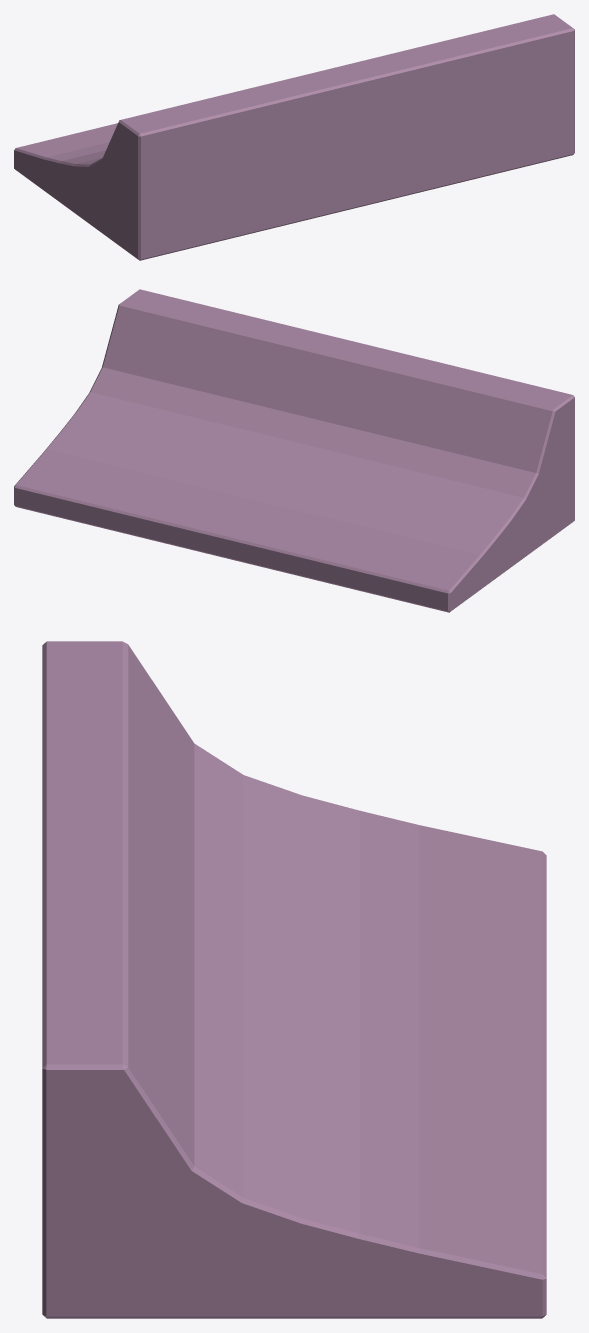
File: mesh_bigRampMod_v04.fbx
3 views of the same model, one above another, from view 1: azimuth 30°, elevation 25°; view 2: azimuth 150°, elevation 25°; view 3: azimuth 270°, elevation 25° (orthographic). The views are drawn at different scales.
Parts seen in each view (by area): view 1: mesh_bigRampMod_v03; view 2: mesh_bigRampMod_v03; view 3: mesh_bigRampMod_v03.
Part boxes in pixels (box(x1,y1,x2,y2)): mesh_bigRampMod_v03: box(14, 14, 574, 260); mesh_bigRampMod_v03: box(14, 289, 574, 612); mesh_bigRampMod_v03: box(42, 641, 546, 1318).
Size of the model in its own units: 30 by 8.33 by 15.
